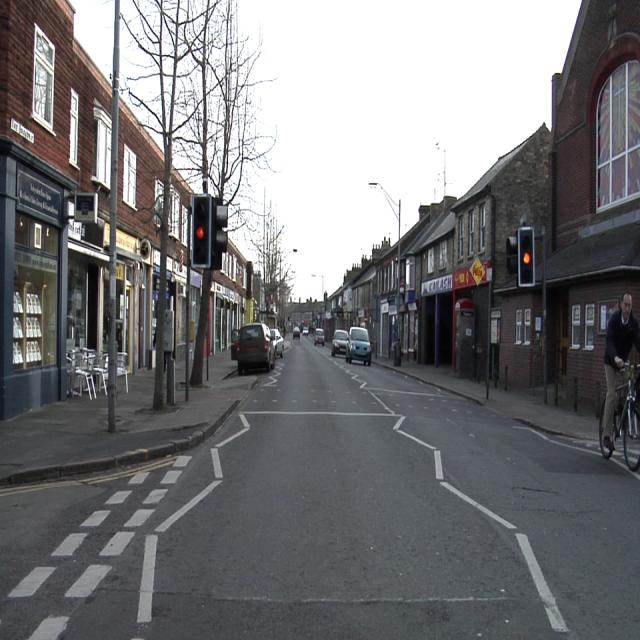Bicyclist: (603, 295, 639, 456), (603, 294, 638, 458)
Building: (321, 5, 639, 400), (2, 0, 199, 410), (201, 238, 261, 356)
Car: (235, 323, 275, 373), (346, 328, 371, 364), (332, 330, 347, 355), (272, 330, 283, 356), (315, 330, 324, 345), (293, 326, 300, 337), (303, 328, 309, 335)
Road: (0, 338, 634, 623)
Tree: (125, 1, 271, 206), (265, 207, 295, 326)
